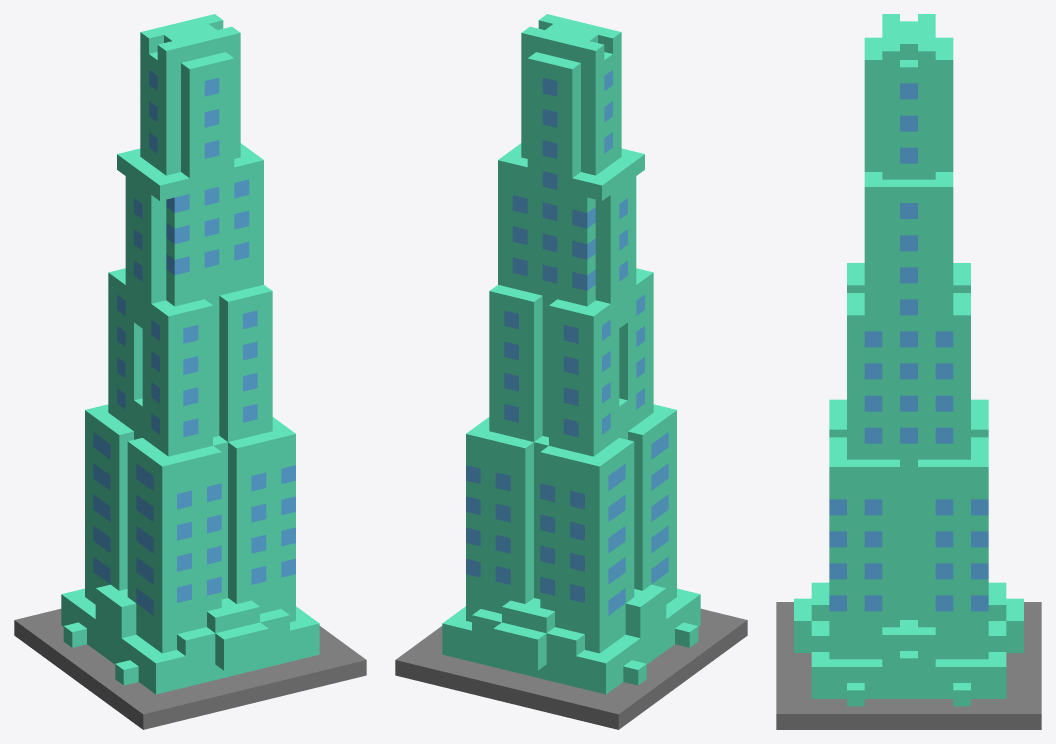
File: building_2.gltf
The picture shows the model from 3 angles, left to right: view 1: azimuth 30°, elevation 25°; view 2: azimuth 150°, elevation 25°; view 3: azimuth 270°, elevation 25°; orthographic projection. The views are drawn at different scales.
Visible parts, largest first — view 1: Layer.1; view 2: Layer.1; view 3: Layer.1.
Part boxes in pixels (<box>): Layer.1: <box>14,14,366,729</box>; Layer.1: <box>395,14,747,729</box>; Layer.1: <box>776,14,1041,729</box>.
Bounding box in the file's own units: 15 × 40 × 15.
Materials: 1 (1 with a texture image).
